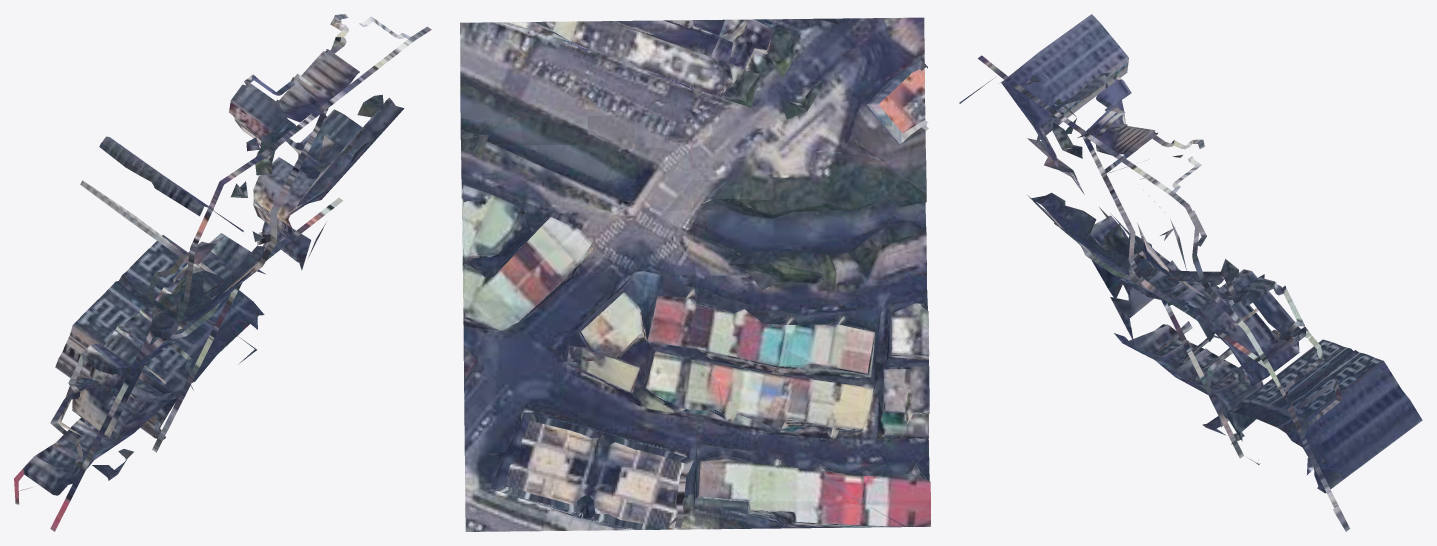
3 views of the same model, side by side, from view 1: azimuth 30°, elevation 25°; view 2: azimuth 150°, elevation 25°; view 3: azimuth 270°, elevation 25° (orthographic). The views are drawn at different scales.
Size of the model in its own units: 160 by 149 by 158.
1 material, 1 textured.
